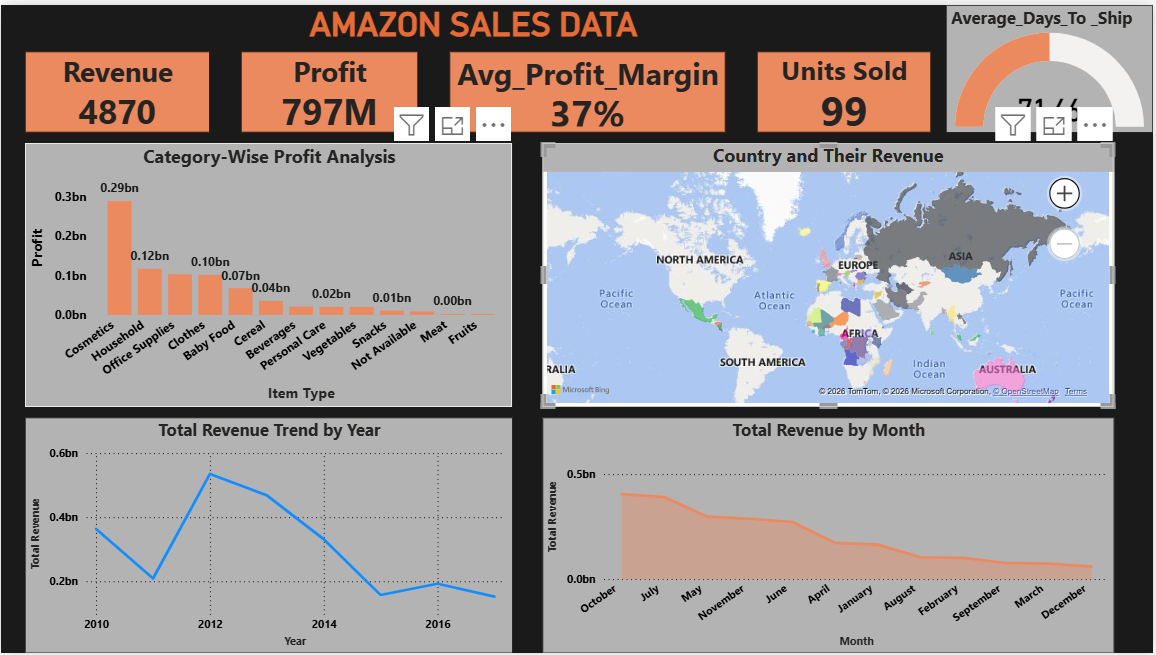

This screenshot's page, from the dashboard's own definition file:
{"tool":"powerbi","page":{"name":"Page 1","canvas":[1280,720],"ordinal":0},"visuals":[{"type":"card","title":"Revenue","fields":{"Values":["Min(Amazon_final_data.Total Revenue)"]},"box":[26.7,51.7,205,90],"z":0},{"type":"card","title":"Profit","fields":{"Values":["Sum(Amazon_final_data.profit)"]},"box":[266.7,51.7,196.7,90],"z":1000},{"type":"card","title":"Avg_Profit_Margin","fields":{"Values":["Avg(Amazon_final_data.Profit_Margin)"]},"box":[498.3,51.7,306.7,90],"z":2000},{"type":"card","title":"Units Sold","fields":{"Values":["Count(Amazon_final_data.Units Sold)"]},"box":[840,51.7,193.3,90],"z":3000},{"type":"lineChart","title":"Total Revenue Trend by Year","fields":{"Y":["Sum(Amazon_final_data.Total Revenue)"],"Category":["Amazon_final_data.Year"]},"box":[26.7,458.3,541.7,261.7],"z":4000},{"type":"areaChart","title":"Total Revenue by Month","fields":{"Y":["Sum(Amazon_final_data.Total Revenue)"],"Category":["Amazon_final_data.Month"]},"box":[601.7,458.3,635,261.7],"z":5000},{"type":"columnChart","title":"Category-Wise Profit Analysis","fields":{"Category":["Amazon_final_data.Item Type"],"Y":["Sum(Amazon_final_data.profit)"]},"box":[26.7,153.3,541.7,293.3],"z":6000},{"type":"gauge","title":"Average_Days_To _Ship","fields":{"Y":["Avg(Amazon_final_data.Days_Took_To_Ship)"]},"box":[1050,0,230,141.7],"z":7000},{"type":"filledMap","title":"Country and Their Revenue","fields":{"Category":["Amazon_final_data.Country"],"Series":["Amazon_final_data.Total Revenue"]},"box":[601.7,153.3,635,293.3],"z":8000},{"type":"shape","title":"AMAZON SALES DATA","box":[0,0,1050,41.7],"z":9000}]}

Visuals, with their boxes in screenshot pixels (x1, y1, x2, y2), scaled from the page's 1280x720 canvas onto the 1156x655 screenshot:
"Revenue" card: {"left": 24, "top": 47, "right": 209, "bottom": 129}
"Profit" card: {"left": 241, "top": 47, "right": 419, "bottom": 129}
"Avg_Profit_Margin" card: {"left": 450, "top": 47, "right": 727, "bottom": 129}
"Units Sold" card: {"left": 759, "top": 47, "right": 933, "bottom": 129}
"Total Revenue Trend by Year" lineChart: {"left": 24, "top": 417, "right": 513, "bottom": 654}
"Total Revenue by Month" areaChart: {"left": 543, "top": 417, "right": 1117, "bottom": 654}
"Category-Wise Profit Analysis" columnChart: {"left": 24, "top": 139, "right": 513, "bottom": 406}
"Average_Days_To _Ship" gauge: {"left": 948, "top": 0, "right": 1155, "bottom": 129}
"Country and Their Revenue" filledMap: {"left": 543, "top": 139, "right": 1117, "bottom": 406}
"AMAZON SALES DATA" shape: {"left": 0, "top": 0, "right": 948, "bottom": 38}
